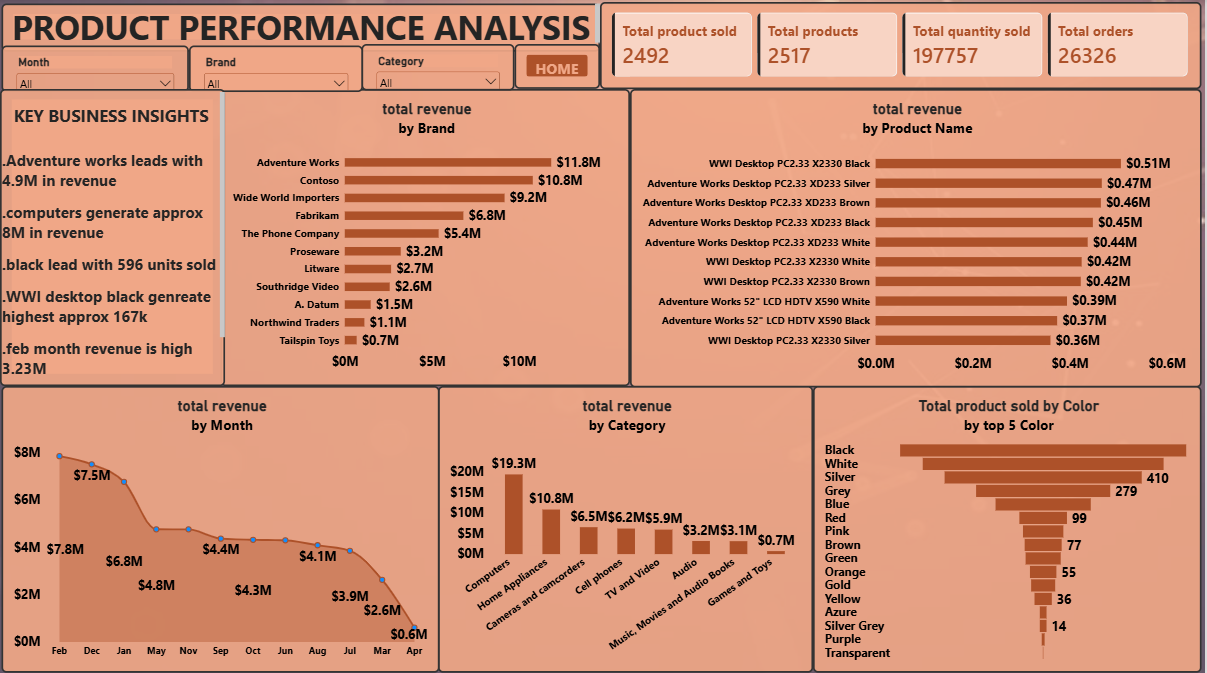

This screenshot's page, from the dashboard's own definition file:
{"tool":"powerbi","page":{"name":"Products","canvas":[1920,1080],"ordinal":2},"visuals":[{"type":"shape","box":[7.2,7.2,952,76.3],"z":0},{"type":"textbox","box":[23.9,7.2,935.3,66.8],"z":1000},{"type":"cardVisual","fields":{"Data":["Products.Total product sold","Products.Total products","Products.Total quantity sold","Customers.Total orders"]},"box":[959.1,4.8,956.8,138.4],"z":2000},{"type":"clusteredBarChart","fields":{"Category":["Products.Product Name"],"Y":["Customers.Estimated revenue"]},"box":[1006.9,143.2,909,474.8],"z":3000},{"type":"clusteredColumnChart","fields":{"Category":["Products.Category"],"Y":["Customers.total revenue"]},"box":[701.5,615.6,596.5,455.7],"z":4000},{"type":"clusteredBarChart","fields":{"Category":["Products.Brand"],"Y":["Customers.total revenue"]},"box":[355.5,143.2,651.4,472.4],"z":5000},{"type":"funnel","fields":{"Category":["Products.Color"],"Y":["Products.Total product sold"]},"box":[1297.9,615.6,618,455.7],"z":6000},{"type":"stackedAreaChart","fields":{"Category":["date table.Month"],"Y":["Customers.total revenue"]},"box":[7.2,615.6,696.7,455.7],"z":7000},{"type":"slicer","fields":{"Values":["Products.Category"]},"box":[579.8,71.6,243.4,74],"z":8000},{"type":"slicer","fields":{"Values":["Products.Brand"]},"box":[305.4,74,276.8,74],"z":9000},{"type":"slicer","fields":{"Values":["date table.Month"]},"box":[7.2,74,298.2,74],"z":10000},{"type":"shape","box":[4.8,143.2,357.9,472.4],"z":11000},{"type":"textbox","box":[7.2,147.9,355.5,470],"z":12000},{"type":"actionButton","box":[823.1,71.6,136,71.6],"z":13000}]}

Visuals, with their boxes in screenshot pixels (x1, y1, x2, y2), scaled from the page's 1920x1080 canvas onto the 1207x673 screenshot:
shape: Rect(5, 4, 603, 52)
textbox: Rect(15, 4, 603, 46)
cardVisual - Products.Total product sold x Products.Total products: Rect(603, 3, 1204, 89)
clusteredBarChart - Products.Product Name x Customers.Estimated revenue: Rect(633, 89, 1204, 385)
clusteredColumnChart - Products.Category x Customers.total revenue: Rect(441, 384, 816, 668)
clusteredBarChart - Products.Brand x Customers.total revenue: Rect(223, 89, 633, 384)
funnel - Products.Color x Products.Total product sold: Rect(816, 384, 1204, 668)
stackedAreaChart - date table.Month x Customers.total revenue: Rect(5, 384, 443, 668)
slicer - Products.Category: Rect(364, 45, 518, 91)
slicer - Products.Brand: Rect(192, 46, 366, 92)
slicer - date table.Month: Rect(5, 46, 192, 92)
shape: Rect(3, 89, 228, 384)
textbox: Rect(5, 92, 228, 385)
actionButton: Rect(517, 45, 603, 89)
